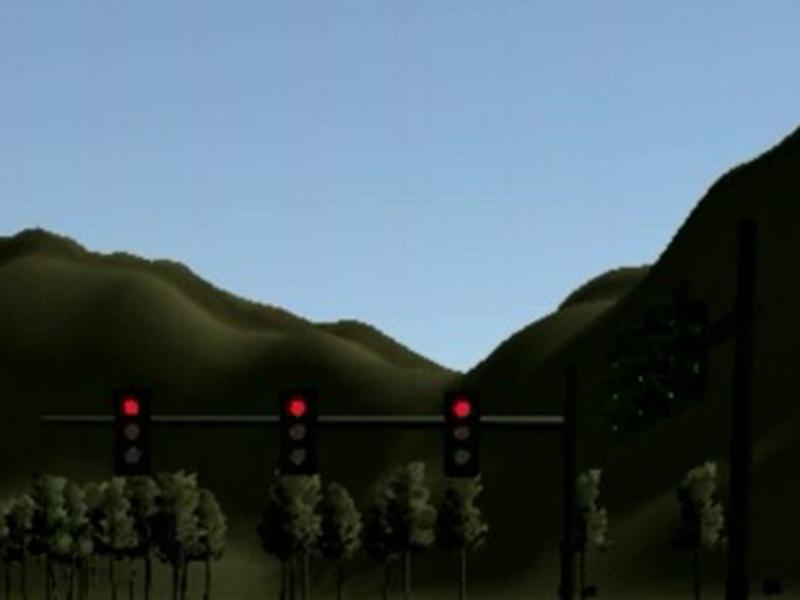Red: (113, 387, 151, 475), (279, 387, 316, 474), (445, 389, 481, 476)
